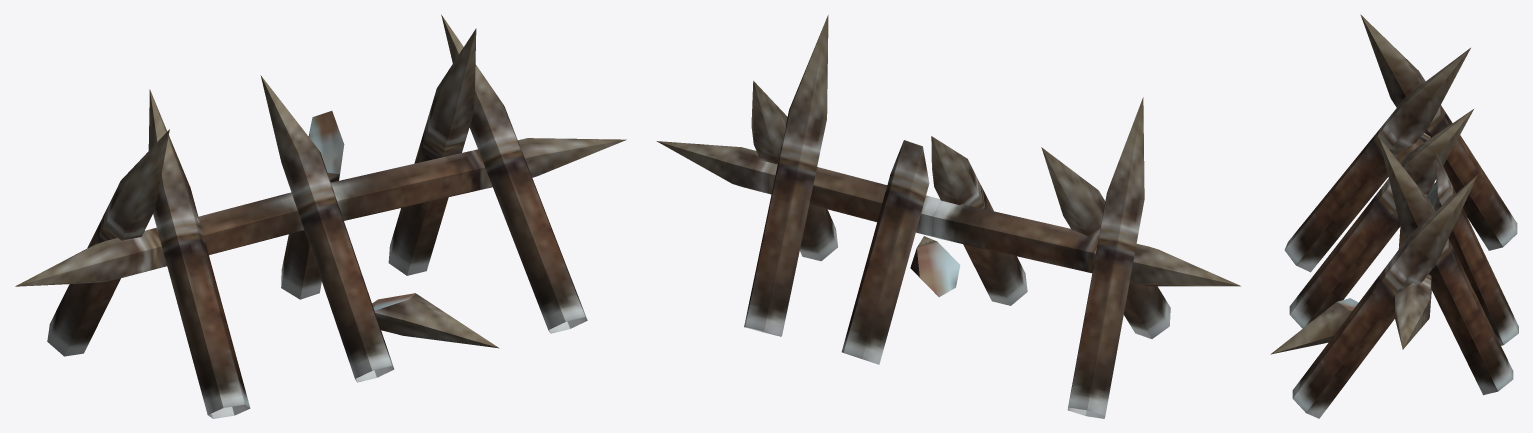
File: yw_xuesebingfeng_muzhalan02.FBX
3 views of the same model, side by side, from view 1: azimuth 30°, elevation 25°; view 2: azimuth 150°, elevation 25°; view 3: azimuth 270°, elevation 25° (orthographic). The views are drawn at different scales.
Parts seen in each view (by area): view 1: yw_xuesebingfeng_muzhalan02; view 2: yw_xuesebingfeng_muzhalan02; view 3: yw_xuesebingfeng_muzhalan02.
Boxes of the visible parts, x1=… form: yw_xuesebingfeng_muzhalan02: x1=15, y1=14, x2=626, y2=418; yw_xuesebingfeng_muzhalan02: x1=656, y1=15, x2=1240, y2=418; yw_xuesebingfeng_muzhalan02: x1=1270, y1=14, x2=1518, y2=418.
Size of the model in its own units: 657 by 299 by 263.
